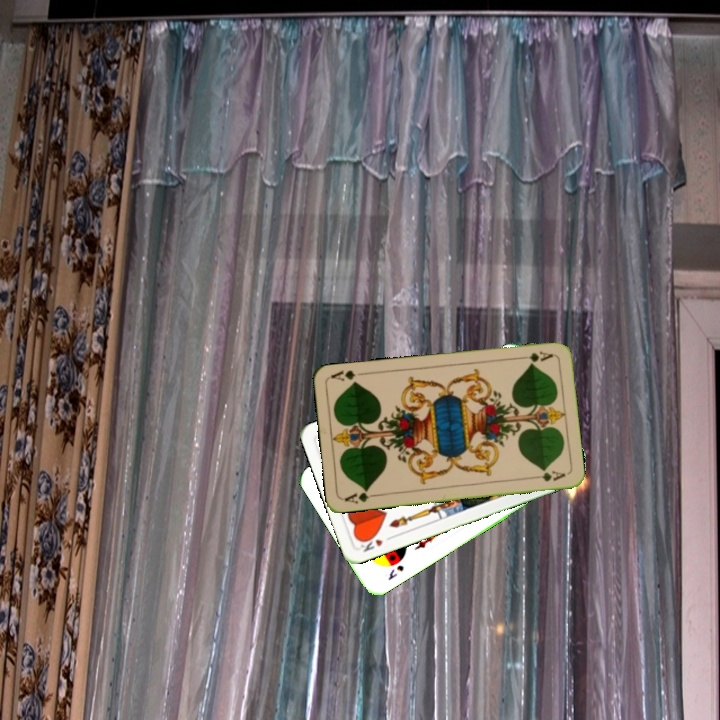GA: (341, 485, 381, 506), (515, 347, 556, 366)
HK: (356, 531, 396, 555)
SK: (384, 561, 406, 583)
